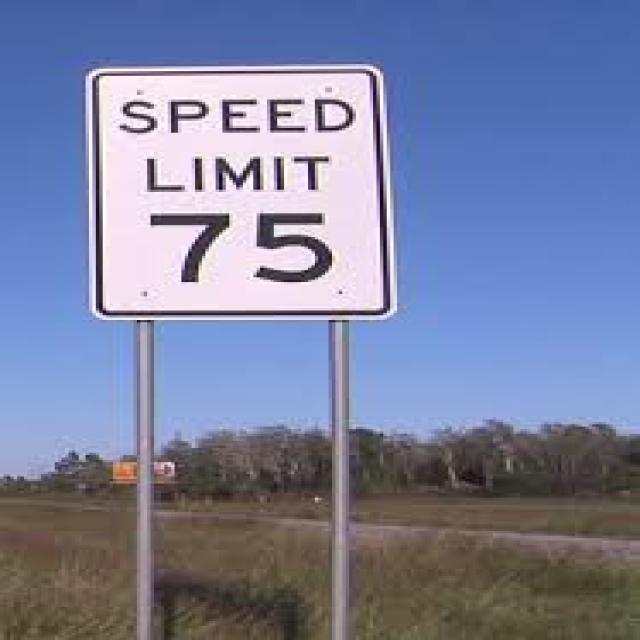speedLimit75: (84, 54, 385, 332)
